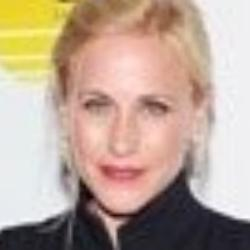face: (37, 3, 224, 216)
